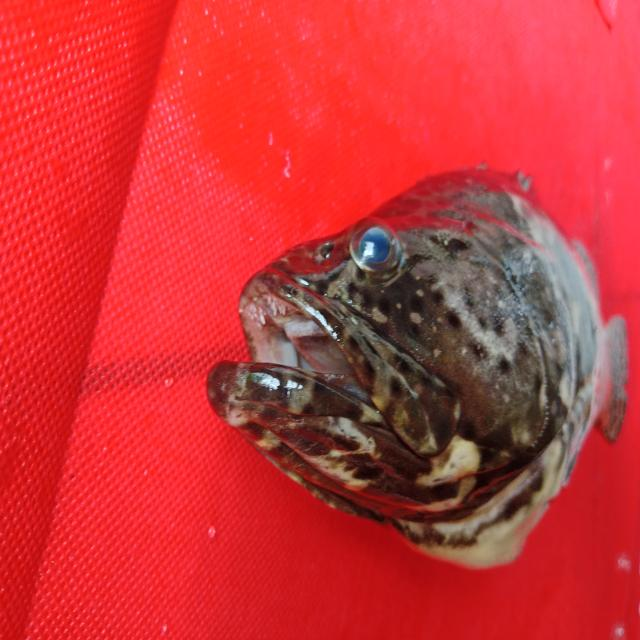ikan: (194, 119, 632, 592)
